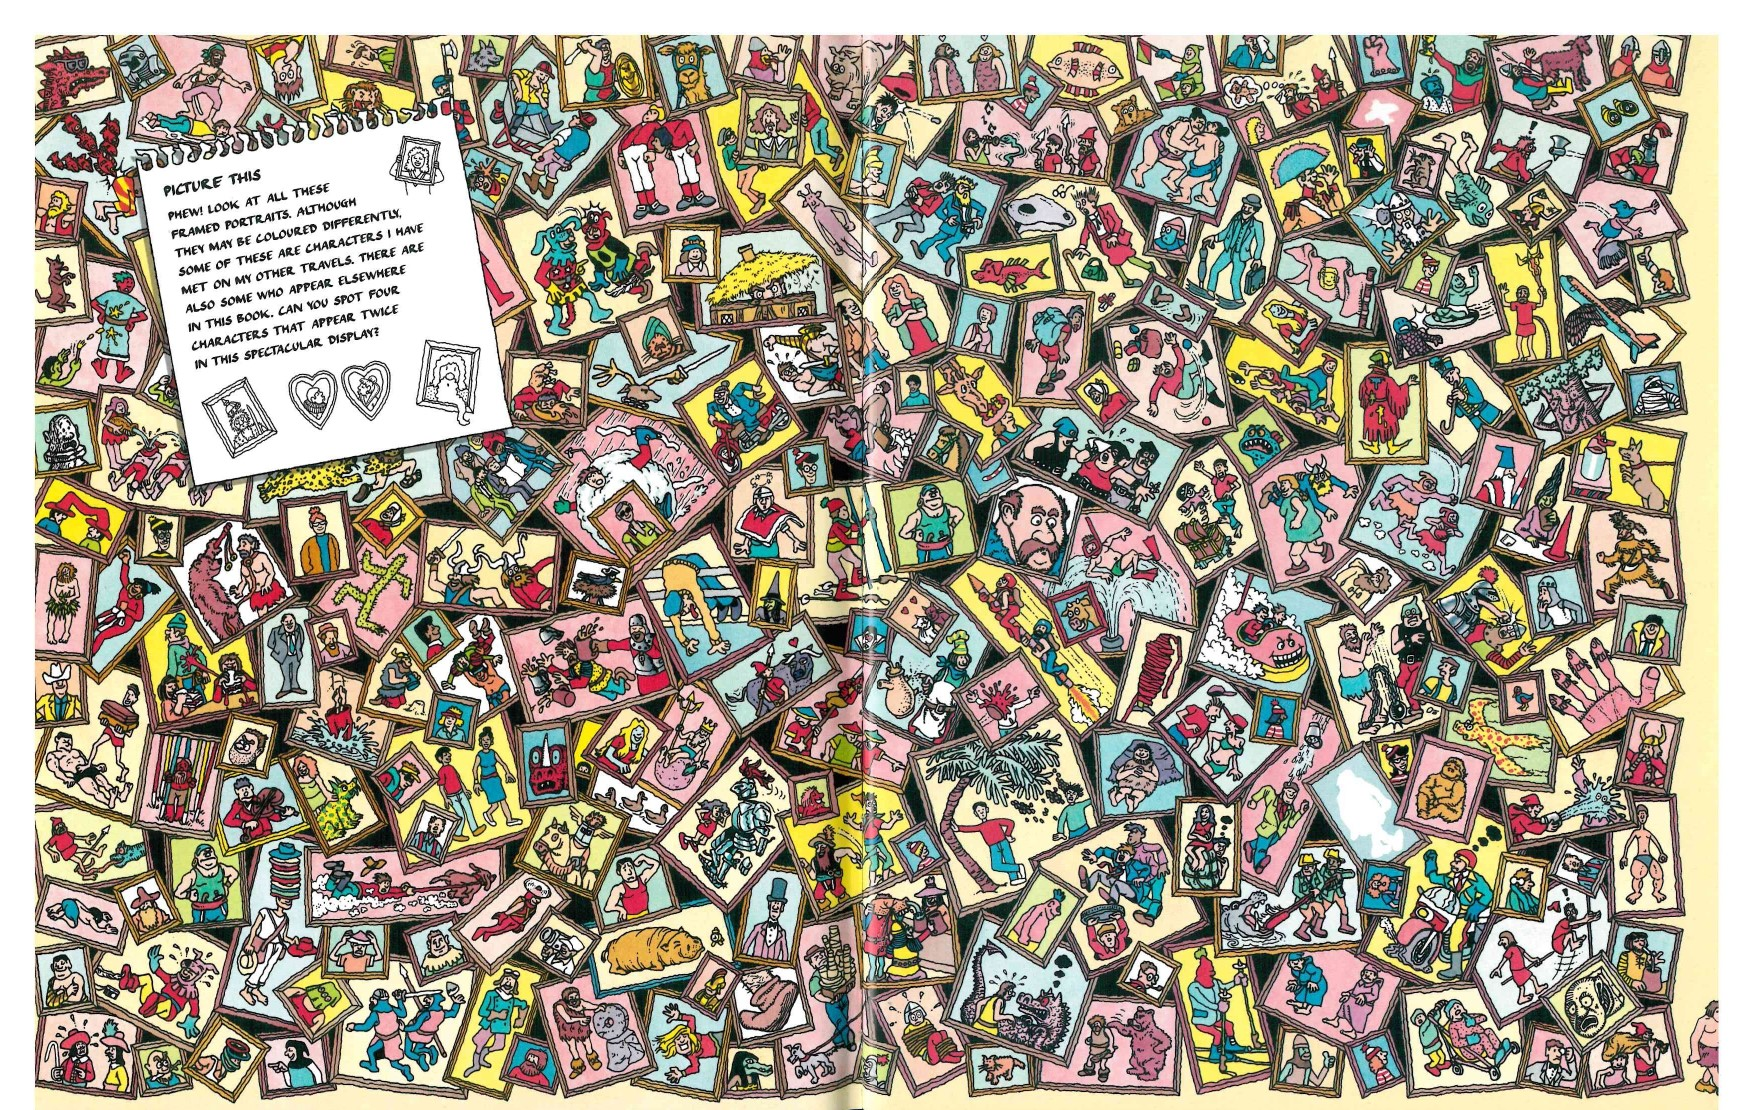waldos: (789, 445, 821, 491)
